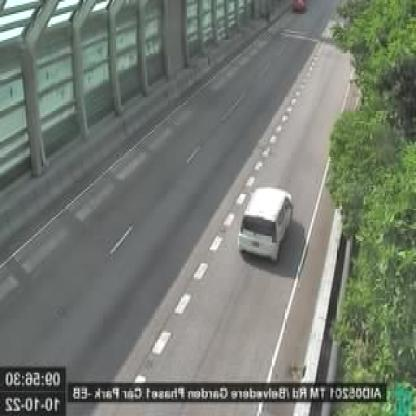Car: (239, 186, 292, 259), (290, 1, 306, 13)
